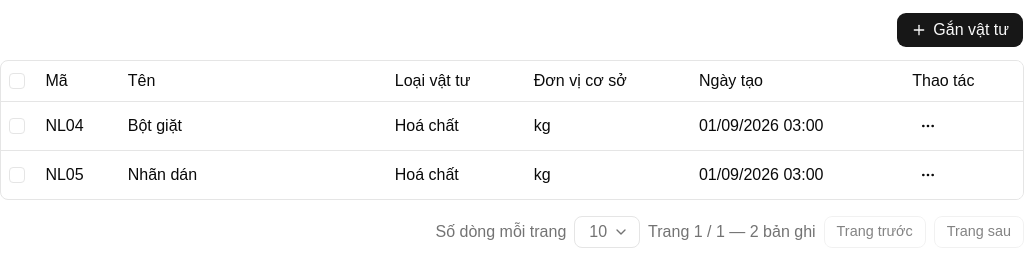
Test case: SupplierMaterials — chọn nhiều để gỡ › ô tick ở tiêu đề chọn / bỏ chọn cả trang; chọn một phần → trạng thái nửa
Expected: the text "Bột giặt" is shown, [128,116,182,134]
Click the checkbox named "Chọn NL04".
click(17, 126)  # box [9,118,25,134]
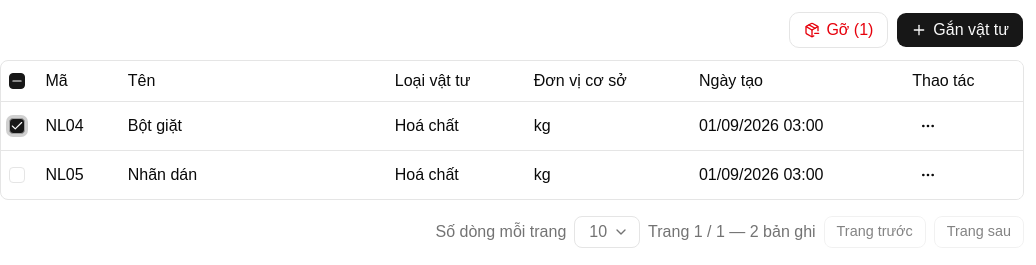
Result: the checkbox named "Chọn tất cả vật tư trên trang" has attribute data-state="indeterminate"
Click the checkbox named "Chọn tất cả vật tư trên trang".
click(17, 81)  # box [9,73,25,89]
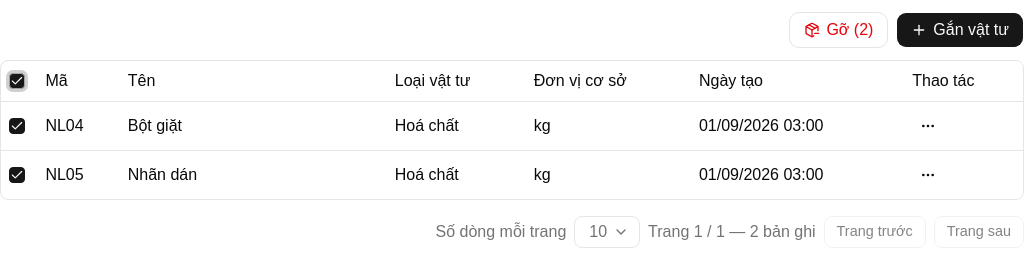
Result: the button "Gỡ (2)" is shown at [789,12,888,48]
Click the checkbox named "Chọn tất cả vật tư trên trang".
click(17, 81)  # box [9,73,25,89]
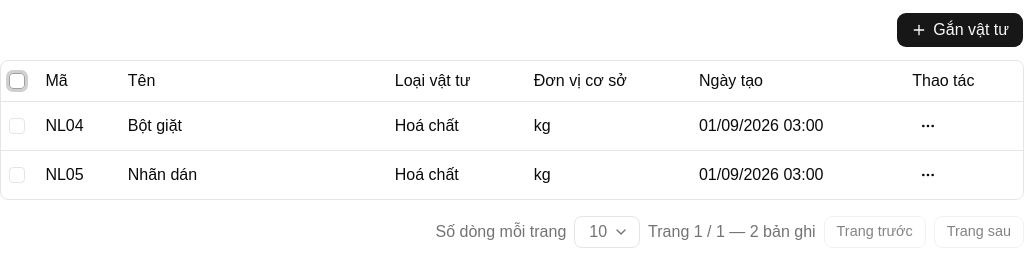
Result: the button "Gỡ (" is gone
